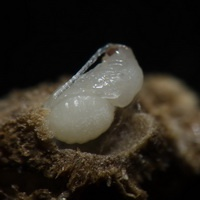insect: (0, 44, 199, 199), (47, 43, 142, 143)
